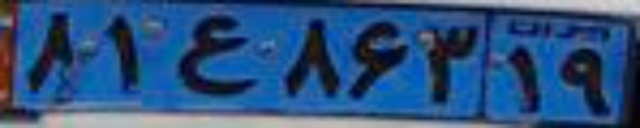1: (105, 13, 141, 91), (506, 44, 541, 112)
3: (420, 24, 482, 104)
6: (350, 20, 407, 99)
8: (26, 13, 87, 92), (284, 18, 340, 98)
9: (559, 47, 608, 116)
ain: (176, 13, 257, 95)
